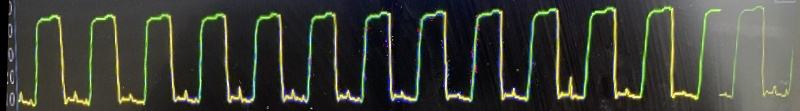hydrop_pressure: (1, 0, 793, 111)
